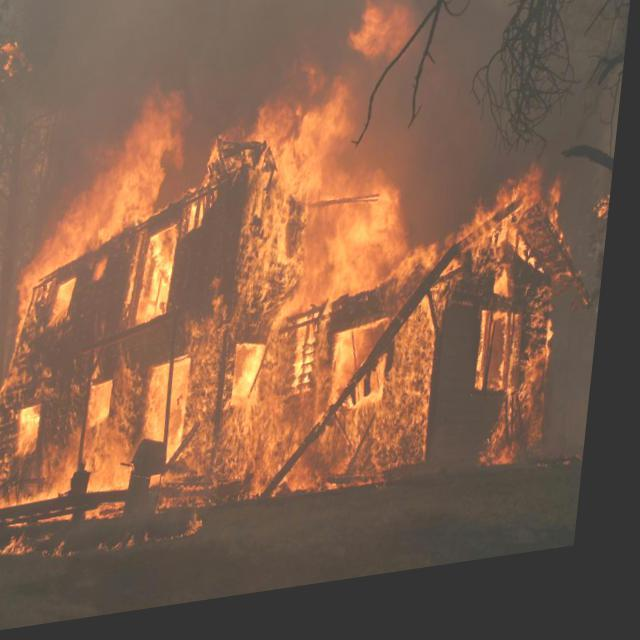Fire: (0, 45, 593, 569)
